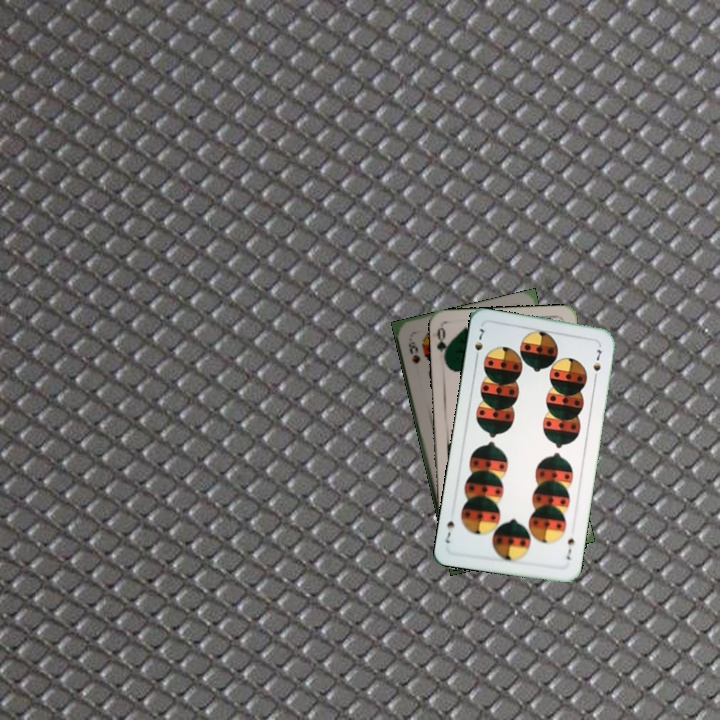GO: (433, 324, 453, 365)
S7: (471, 324, 489, 363), (562, 533, 577, 563)
S8: (404, 334, 423, 366)
